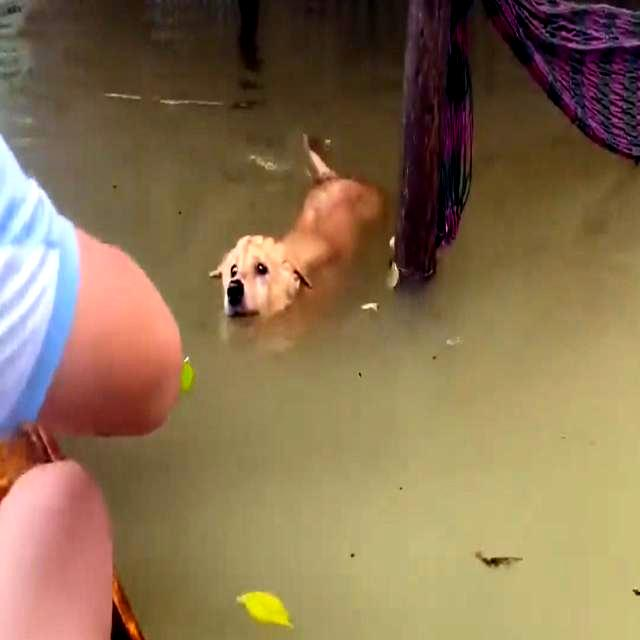dog: (189, 120, 395, 326)
